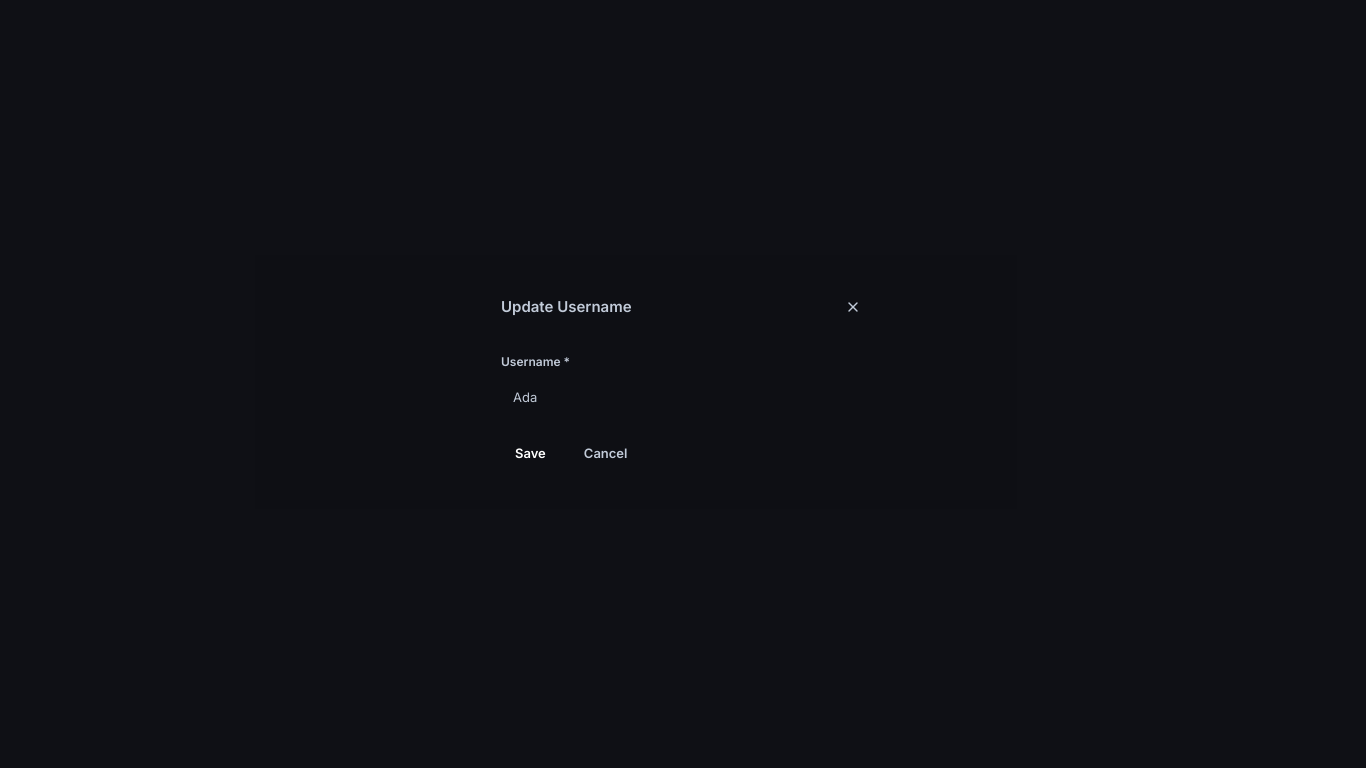
Test case: EditFieldModal › disables Save while the field is empty
The width and height of the screenshot is (1366, 768).
Clear the field at (683, 398), box 501,378 -> 865,418
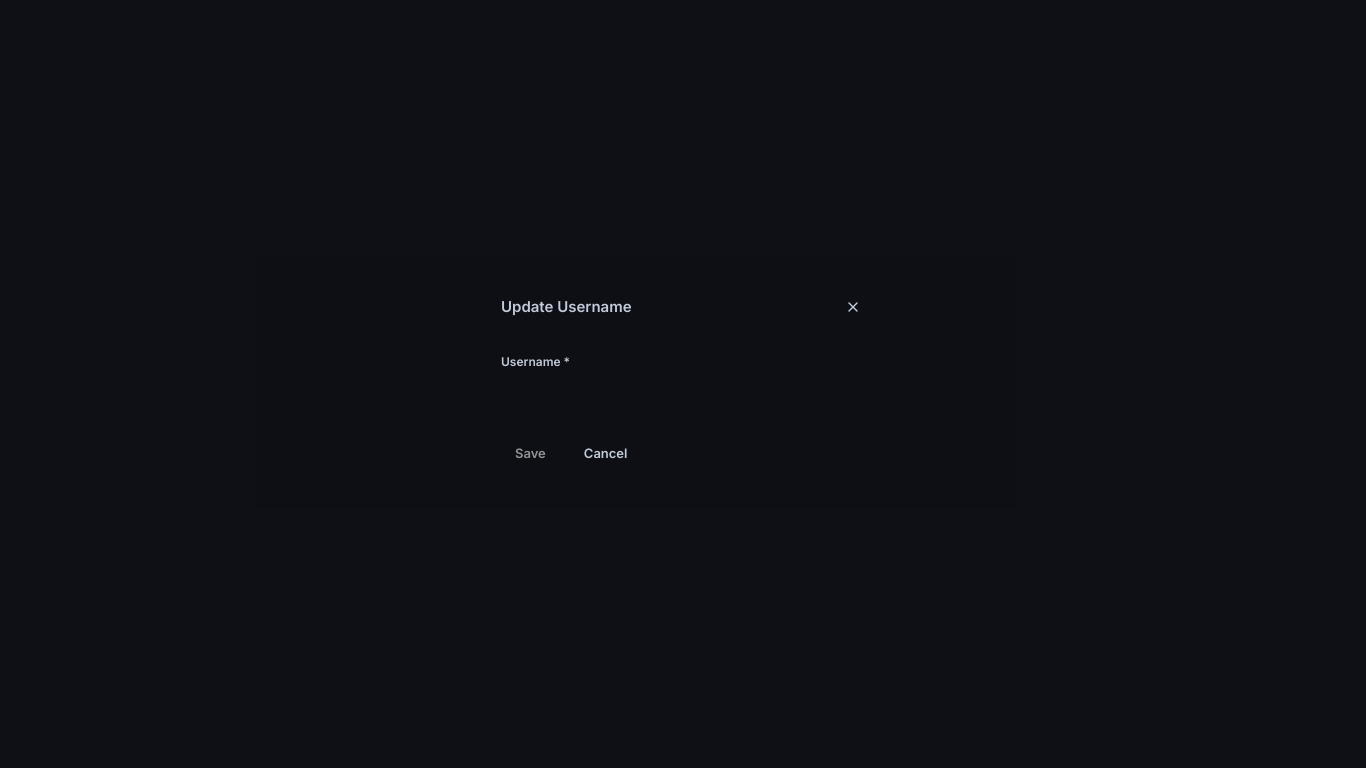
Result: the button "Save" is disabled at 501,436 -> 560,471
